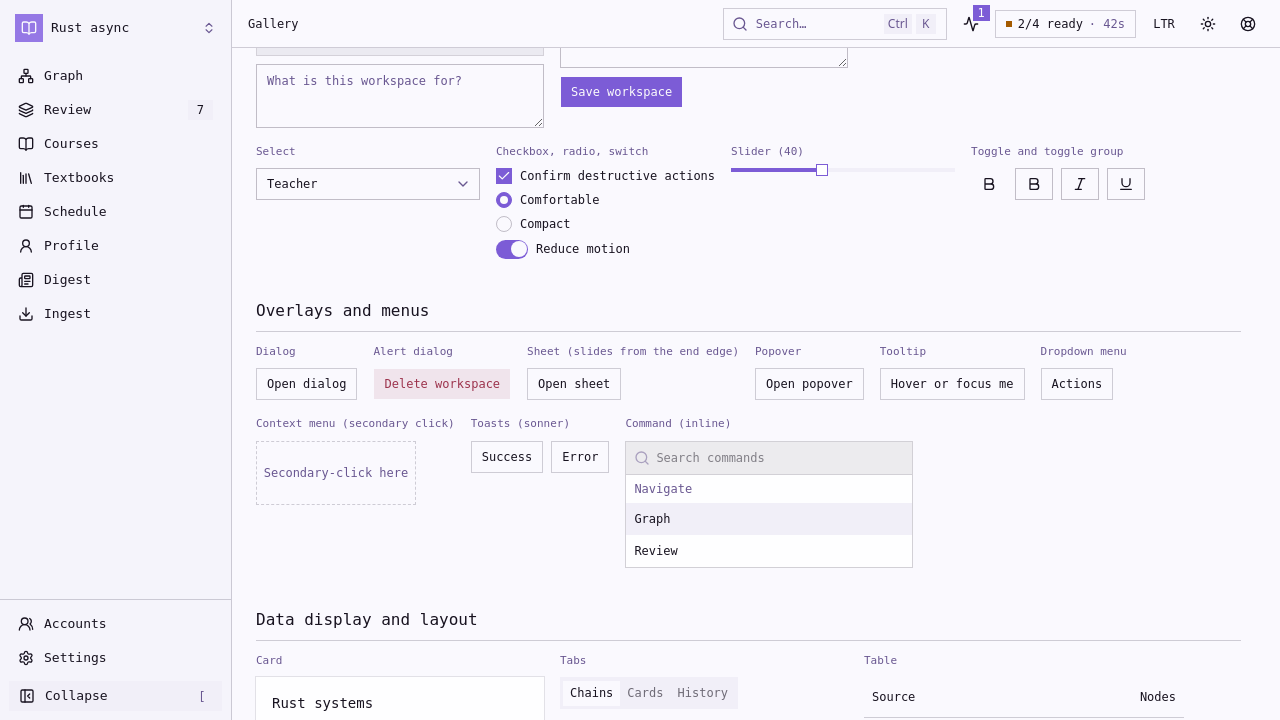
Test: gallery › opens a dialog from the gallery
(page scrolled)
Click the button with test id "gallery-dialog-trigger": coordinates (307, 384) [256, 368, 358, 400]
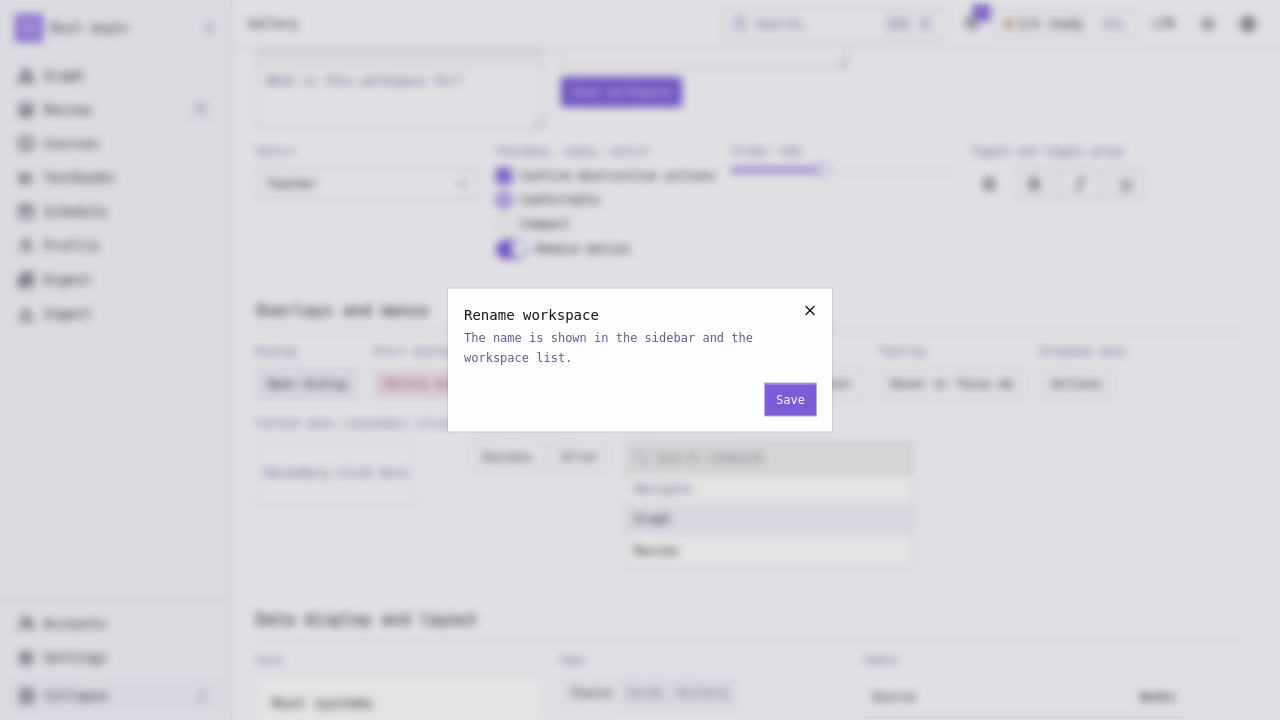
Expected: the dialog "Rename workspace" is shown, [448, 288, 832, 432]
